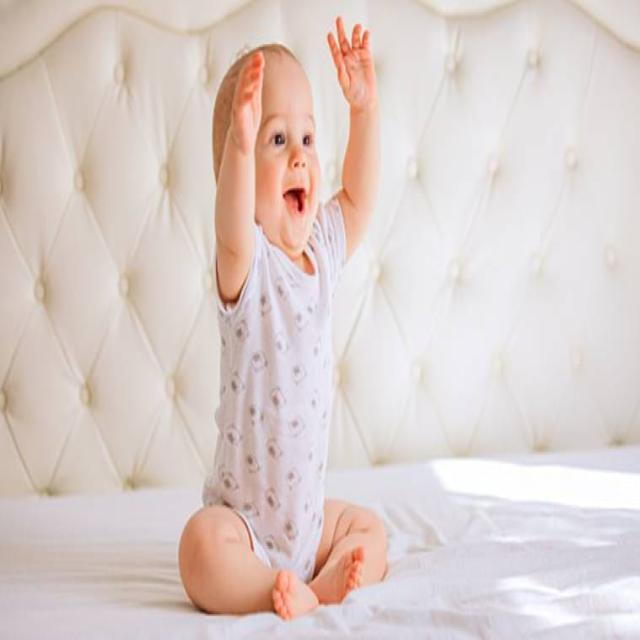non-dog: (178, 10, 391, 622)
